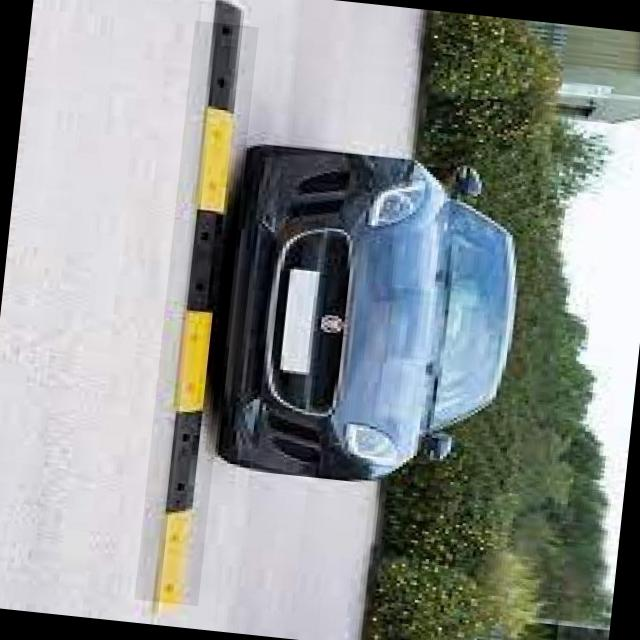bump: (134, 20, 258, 606)
